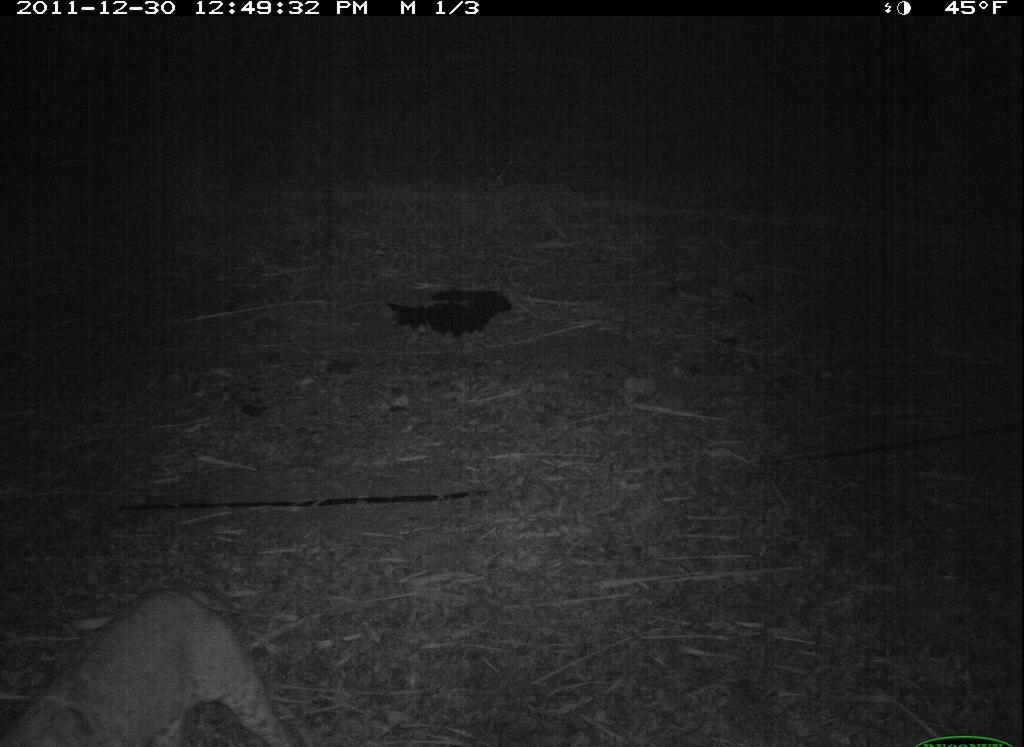bobcat: (11, 574, 301, 747)
